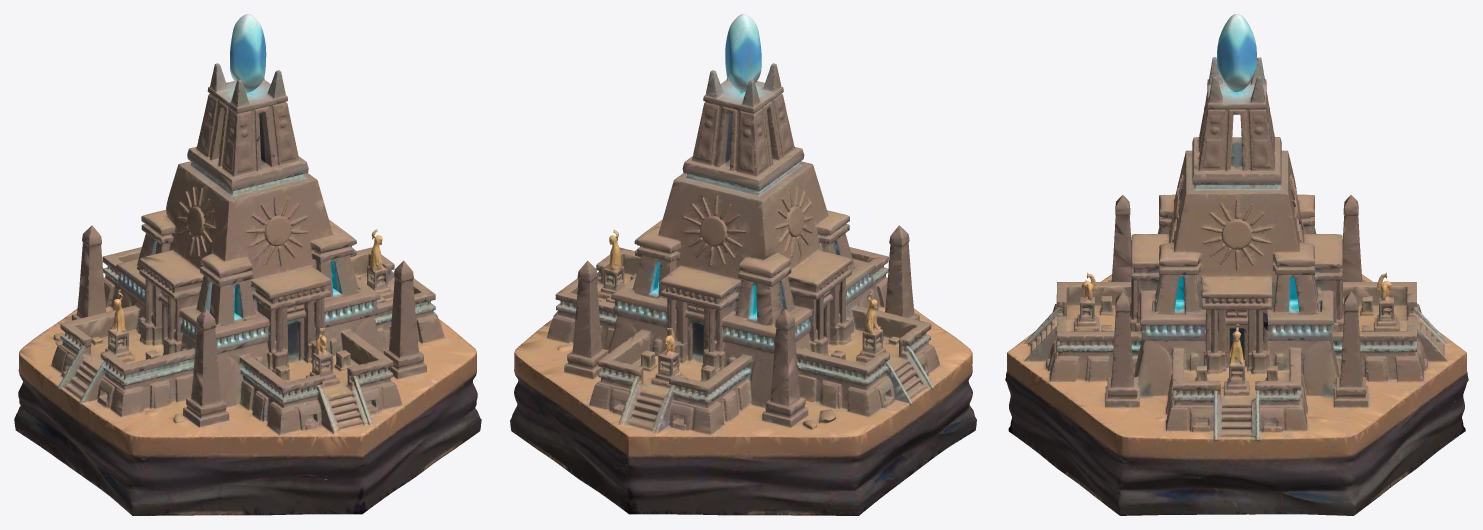
The model's file is sandtile_lv5.glb.
3 renders of one model, left to right at view 1: azimuth 30°, elevation 25°; view 2: azimuth 150°, elevation 25°; view 3: azimuth 270°, elevation 25°, orthographic.
Size of the model in its own units: 1.7 by 1.9 by 1.9.
1 material, 1 textured.
